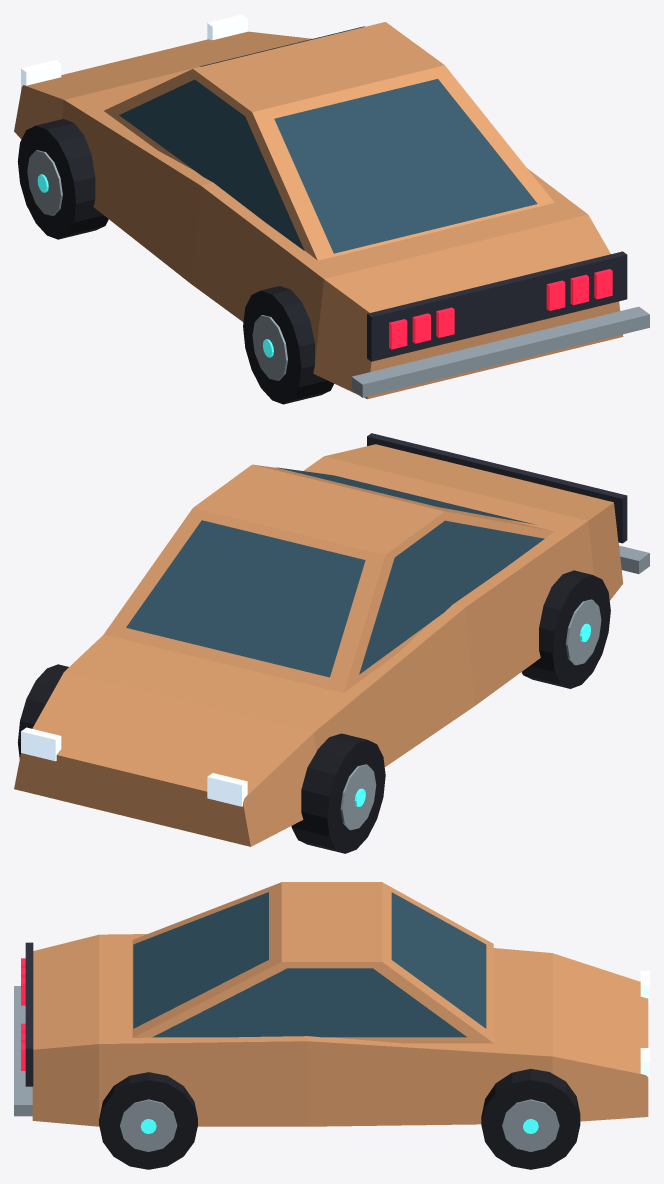
Rendered from mustang_1972.glb.
3 views of the same model, one above another, from view 1: azimuth 30°, elevation 25°; view 2: azimuth 150°, elevation 25°; view 3: azimuth 270°, elevation 25° (orthographic). The views are drawn at different scales.
Parts seen in each view (by area): view 1: Long hood muscle body, Rear window, Cabin shell, Left window, Rear fascia, Chrome bumper, Tire, Tire.001, Wheel rim, Wheel rim.001, Front headlamp, Front headlamp.001; view 2: Long hood muscle body, Cabin shell, Windshield, Left window, Tire, Tire.001, Rear fascia, Wheel rim, Wheel rim.001, Tire.002, Rear window, Front headlamp (+2 smaller); view 3: Long hood muscle body, Cabin shell, Right window, Rear window, Windshield, Tire.002, Tire.003, Wheel rim.003, Wheel rim.002, Chrome bumper, Rear fascia.
Boxes of the visible parts, x1=… form: Long hood muscle body: x1=14, y1=31, x2=623, y2=399; Rear window: x1=274, y1=79, x2=537, y2=253; Cabin shell: x1=104, y1=22, x2=554, y2=260; Left window: x1=119, y1=79, x2=304, y2=250; Rear fascia: x1=367, y1=251, x2=627, y2=361; Chrome bumper: x1=351, y1=306, x2=649, y2=397; Tire: x1=17, y1=119, x2=108, y2=239; Tire.001: x1=243, y1=286, x2=333, y2=404; Wheel rim: x1=27, y1=150, x2=62, y2=215; Wheel rim.001: x1=252, y1=315, x2=287, y2=380; Front headlamp: x1=21, y1=60, x2=61, y2=89; Front headlamp.001: x1=207, y1=14, x2=247, y2=40; Long hood muscle body: x1=14, y1=444, x2=623, y2=846; Cabin shell: x1=103, y1=464, x2=554, y2=692; Windshield: x1=126, y1=520, x2=365, y2=677; Left window: x1=359, y1=520, x2=544, y2=674; Tire: x1=291, y1=733, x2=385, y2=853; Tire.001: x1=521, y1=570, x2=610, y2=688; Rear fascia: x1=367, y1=433, x2=627, y2=543; Wheel rim: x1=340, y1=764, x2=376, y2=830; Wheel rim.001: x1=565, y1=599, x2=601, y2=665; Tire.002: x1=17, y1=664, x2=68, y2=758; Rear window: x1=276, y1=467, x2=536, y2=524; Front headlamp: x1=207, y1=773, x2=247, y2=806; Long hood muscle body: x1=32, y1=934, x2=648, y2=1126; Cabin shell: x1=132, y1=882, x2=493, y2=1043; Right window: x1=153, y1=968, x2=466, y2=1037; Rear window: x1=133, y1=892, x2=268, y2=1028; Windshield: x1=391, y1=892, x2=486, y2=1028; Tire.002: x1=481, y1=1069, x2=580, y2=1169; Tire.003: x1=99, y1=1072, x2=197, y2=1169; Wheel rim.003: x1=120, y1=1099, x2=177, y2=1151; Wheel rim.002: x1=502, y1=1099, x2=559, y2=1151; Chrome bumper: x1=14, y1=986, x2=32, y2=1116; Rear fascia: x1=25, y1=942, x2=33, y2=1086.
Size of the model in its own units: 2.02 by 1.31 by 4.11.
